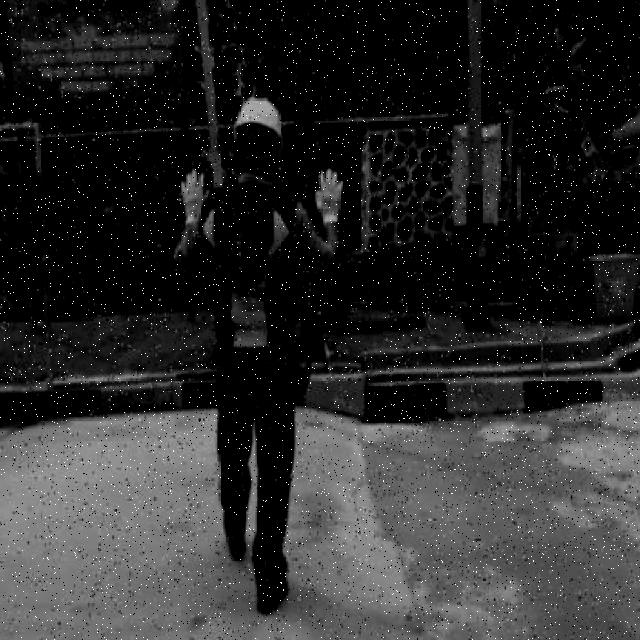Boots: (250, 549, 301, 623), (214, 494, 251, 563)
Gloves: (311, 163, 351, 222), (173, 169, 210, 229)
Helmet: (228, 92, 290, 145)
Mask: (213, 200, 276, 292)
